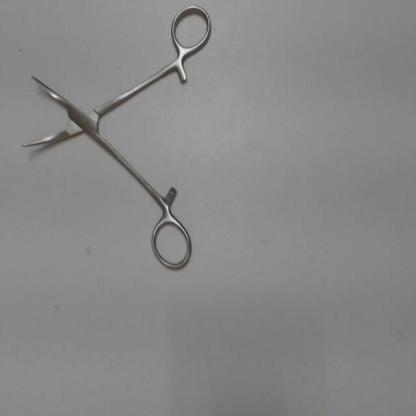Crile Artery Forceps: (16, 1, 213, 278)
